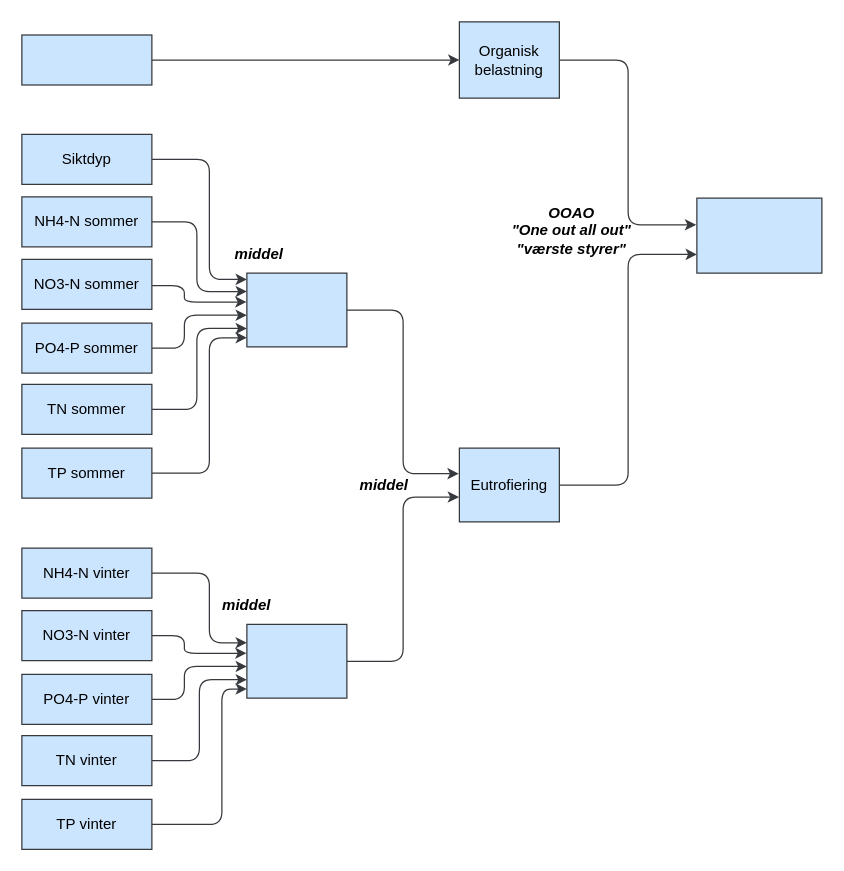
This 844x871 diagram has some shape labels left out. The centre of each missing label's shape, as x and y in pixels:
"Fysisk-kjemiske elementer" goes at (x=759, y=235).
"O2 Oksygen" goes at (x=86, y=59).
"Sommer" goes at (x=296, y=309).
"Vinter" goes at (x=296, y=660).
